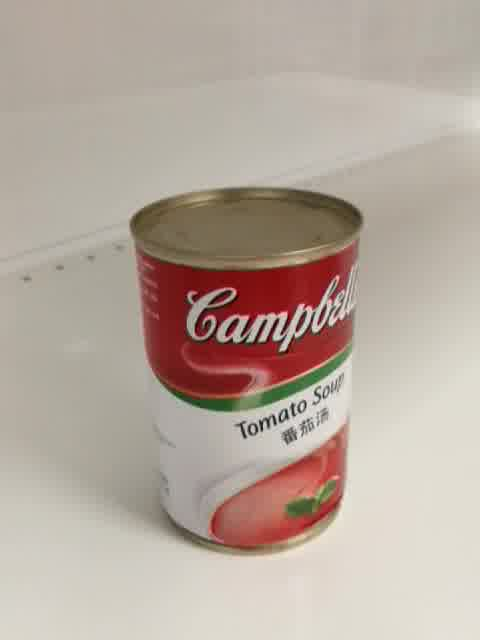tomatosoup: (125, 186, 365, 560)
